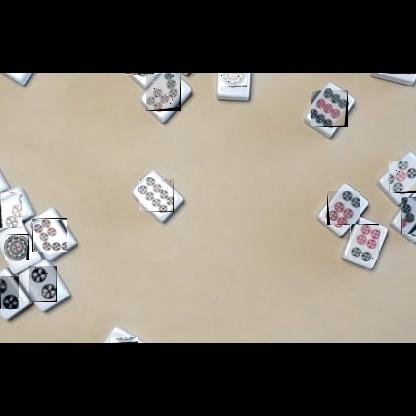1p: (5, 234, 29, 260), (220, 73, 247, 87), (111, 337, 138, 343)
2p: (29, 266, 57, 302), (0, 276, 19, 309)
3p: (0, 192, 22, 228)
4p: (125, 73, 154, 75)
5p: (389, 161, 416, 193)
6p: (327, 191, 360, 225), (350, 224, 379, 260), (379, 73, 416, 74)
7p: (146, 74, 181, 111), (32, 218, 67, 252), (401, 197, 416, 234)
8p: (139, 178, 174, 212)
9p: (311, 90, 348, 127)
